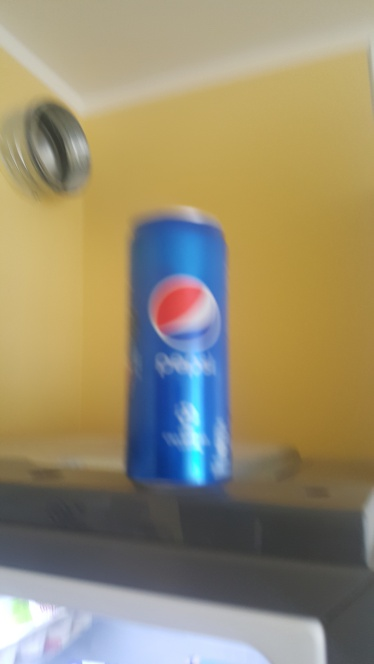pepsi: (125, 198, 244, 507)
